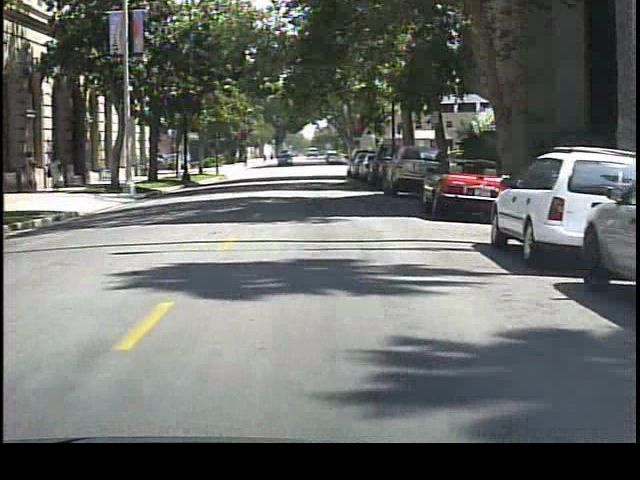person: (42, 152, 68, 194), (23, 148, 43, 192)
